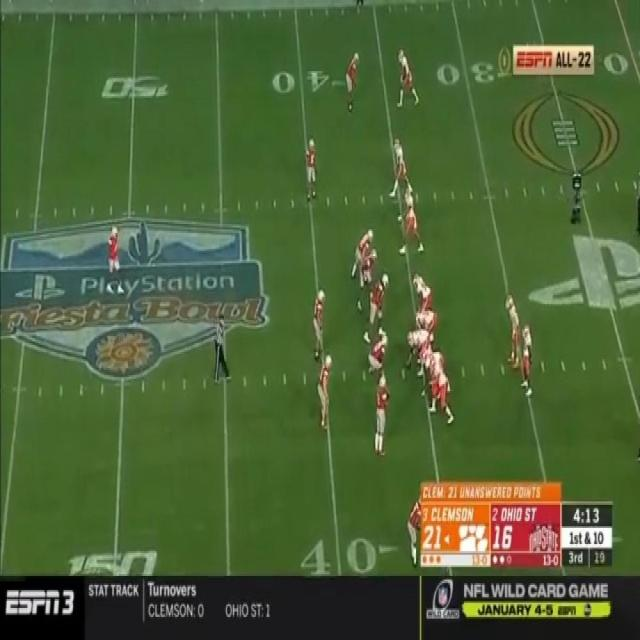center: (407, 330, 428, 362)
db: (108, 228, 125, 296), (346, 50, 361, 110), (305, 140, 317, 200)
lb: (372, 376, 387, 458), (318, 356, 334, 432), (313, 292, 327, 359)
qb: (506, 295, 520, 366)
